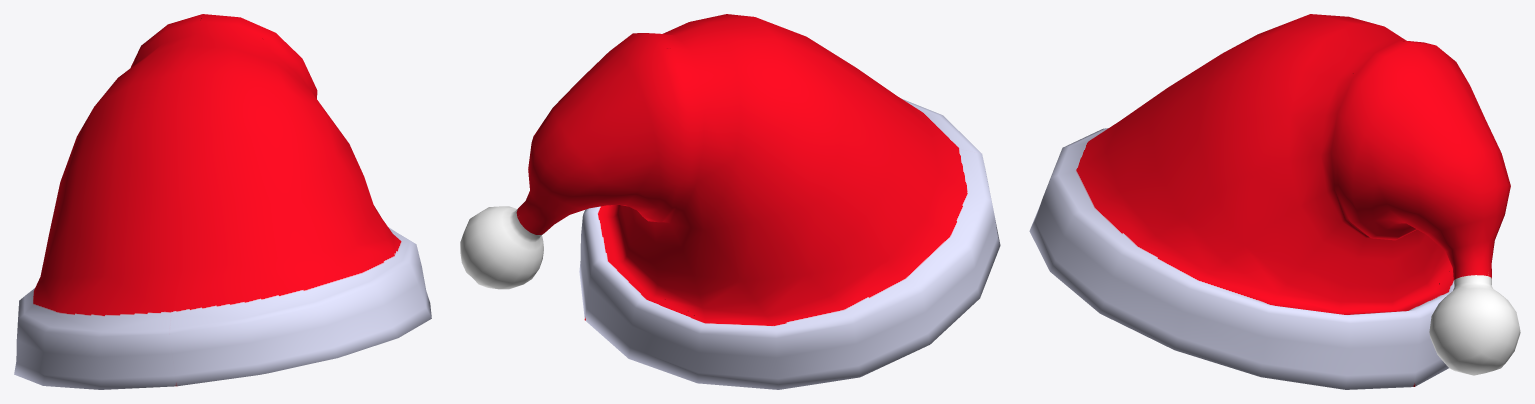
The model's file is santahat.fbx.
3 renders of one model, left to right at view 1: azimuth 30°, elevation 25°; view 2: azimuth 150°, elevation 25°; view 3: azimuth 270°, elevation 25°, orthographic. The views are drawn at different scales.
Visible parts, largest first — view 1: SCHat; view 2: SCHat; view 3: SCHat.
Boxes of the visible parts, x1,y1,x2,y2 form: SCHat: [14, 14, 431, 389]; SCHat: [460, 14, 1000, 389]; SCHat: [1029, 14, 1520, 389].
Bounding box in the file's own units: 0.5416 × 0.3885 × 0.5367.
Materials: 1 (1 with a texture image).
